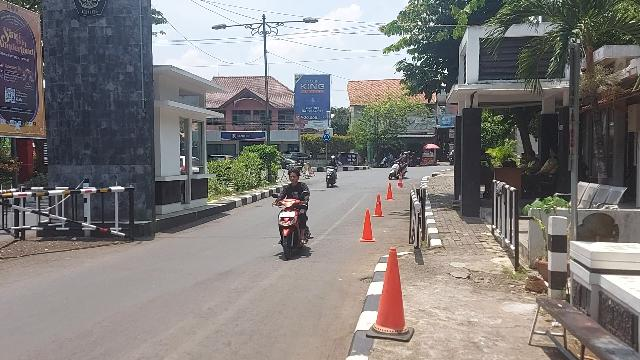helm: (331, 157, 337, 164)
motor: (271, 192, 315, 262), (326, 163, 341, 189)
non-helm: (289, 168, 301, 185)
